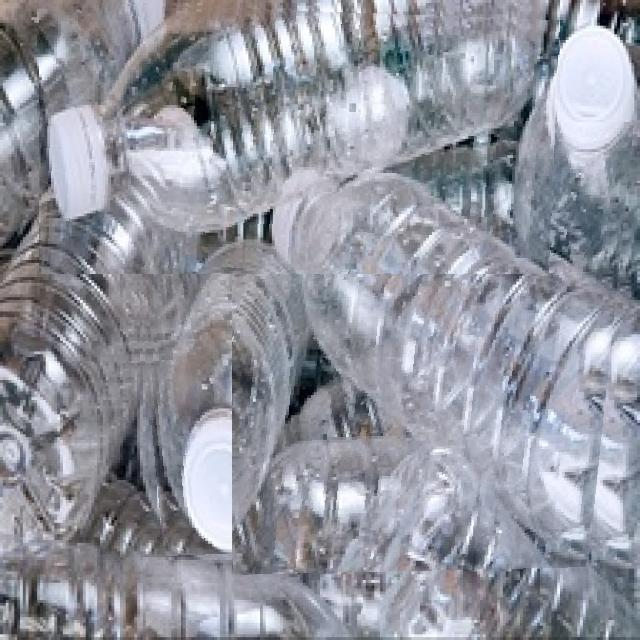plastic bottle: (232, 122, 619, 567), (39, 9, 557, 274), (132, 222, 335, 556)
